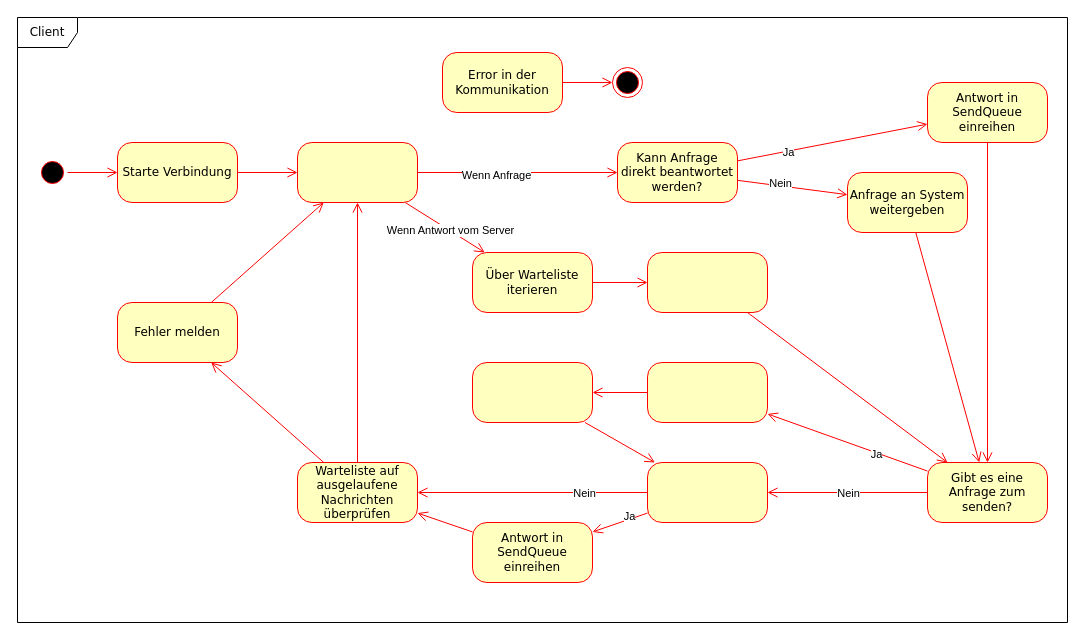
The diagram is 1085 pixels wide and 640 high, and some of its shapes have lost their labels. The shapes that lost their labels are listed below. From the top down, each one's centre as x and y in pixels, then its label:
[357,172]: AntwortQueue überprüfen
[707,282]: Anfrage erfolgreich schließen
[532,392]: Anfrage mit Timeout in die Warteliste packen
[707,392]: Anfrage in SendQueue einreihen
[707,492]: Gibt es eine Antwort zum senden?
